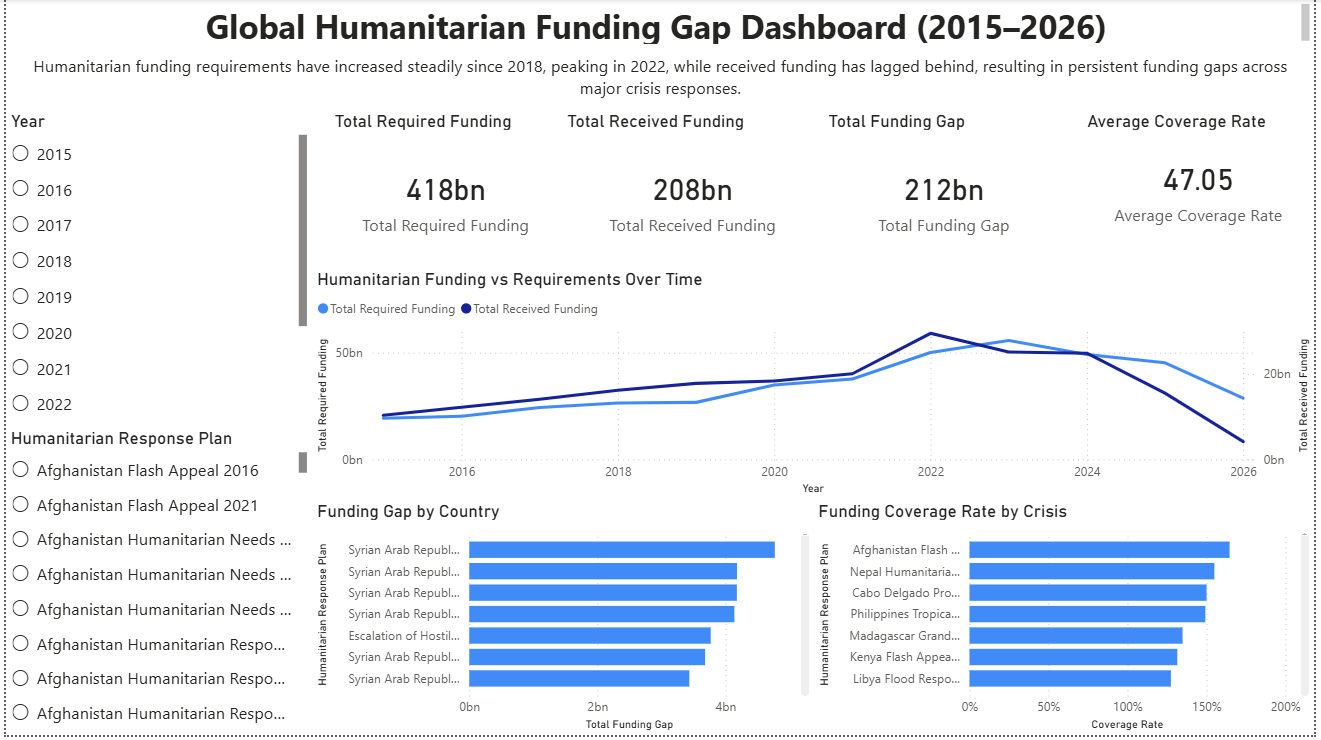

What the dashboard file says about the page in this screenshot:
{"tool":"powerbi","page":{"name":"Executive Overview","canvas":[1280,720],"ordinal":0},"visuals":[{"type":"lineChart","title":"Humanitarian Funding vs Requirements Over Time","fields":{"Category":["fts_requirements_funding_summary_country_year.Year"],"Y":["fts_requirements_funding_summary_country_year.Total Required Funding"],"Y2":["fts_requirements_funding_summary_country_year.Total Received Funding"]},"box":[299.6,264.1,980.7,226.2],"z":0},{"type":"clusteredBarChart","title":"Funding Gap by Country","fields":{"Category":["fts_requirements_funding_summary_country_year.Country"],"Y":["fts_requirements_funding_summary_country_year.Total Funding Gap"]},"box":[299.1,489.9,491.3,230.5],"z":1000},{"type":"clusteredBarChart","title":"Funding Coverage Rate by Crisis","fields":{"Category":["fts_requirements_funding_summary_country_year.Country"],"Y":["fts_requirements_funding_summary_country_year.Coverage Rate"]},"box":[790.4,489.9,489.9,230.5],"z":2000},{"type":"card","title":"Total Required Funding","fields":{"Values":["fts_requirements_funding_summary_country_year.Total Required Funding"]},"box":[316.7,108.8,227.4,155.3],"z":3000},{"type":"card","title":"Total Received Funding","fields":{"Values":["Sum(fts_requirements_funding_summary_country_year.ReceivedFunding)"]},"box":[544.2,108.8,255.6,155.3],"z":4000},{"type":"card","title":"Total Funding Gap","fields":{"Values":["fts_requirements_funding_summary_country_year.Total Funding Gap"]},"box":[799.7,108.8,236,155.3],"z":5000},{"type":"card","title":"Average Coverage Rate","fields":{"Values":["fts_requirements_funding_summary_country_year.Average Coverage Rate"]},"box":[1052.9,108.8,227.4,135.7],"z":6000},{"type":"listSlicer","fields":{"Values":["fts_requirements_funding_summary_country_year.Year"]},"box":[0,108.8,299.6,310.6],"z":7000},{"type":"listSlicer","fields":{"Values":["fts_requirements_funding_summary_country_year.Country"]},"box":[0,419.4,299.6,300.8],"z":8000},{"type":"textbox","box":[0,0,1280.3,48.9],"z":9000},{"type":"textbox","box":[0,48.9,1280.3,59.9],"z":10000}]}

Visuals, with their boxes in screenshot pixels (x1, y1, x2, y2), scaled from the page's 1280x720 canvas onto the 1321x740 screenshot:
"Humanitarian Funding vs Requirements Over Time" lineChart: <bbox>309, 271, 1320, 504</bbox>
"Funding Gap by Country" clusteredBarChart: <bbox>309, 504, 816, 739</bbox>
"Funding Coverage Rate by Crisis" clusteredBarChart: <bbox>816, 504, 1320, 739</bbox>
"Total Required Funding" card: <bbox>327, 112, 562, 271</bbox>
"Total Received Funding" card: <bbox>562, 112, 825, 271</bbox>
"Total Funding Gap" card: <bbox>825, 112, 1069, 271</bbox>
"Average Coverage Rate" card: <bbox>1087, 112, 1320, 251</bbox>
listSlicer - fts_requirements_funding_summary_country_year.Year: <bbox>0, 112, 309, 431</bbox>
listSlicer - fts_requirements_funding_summary_country_year.Country: <bbox>0, 431, 309, 739</bbox>
textbox: <bbox>0, 0, 1320, 50</bbox>
textbox: <bbox>0, 50, 1320, 112</bbox>
